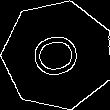O_E: (27, 28, 88, 82)
